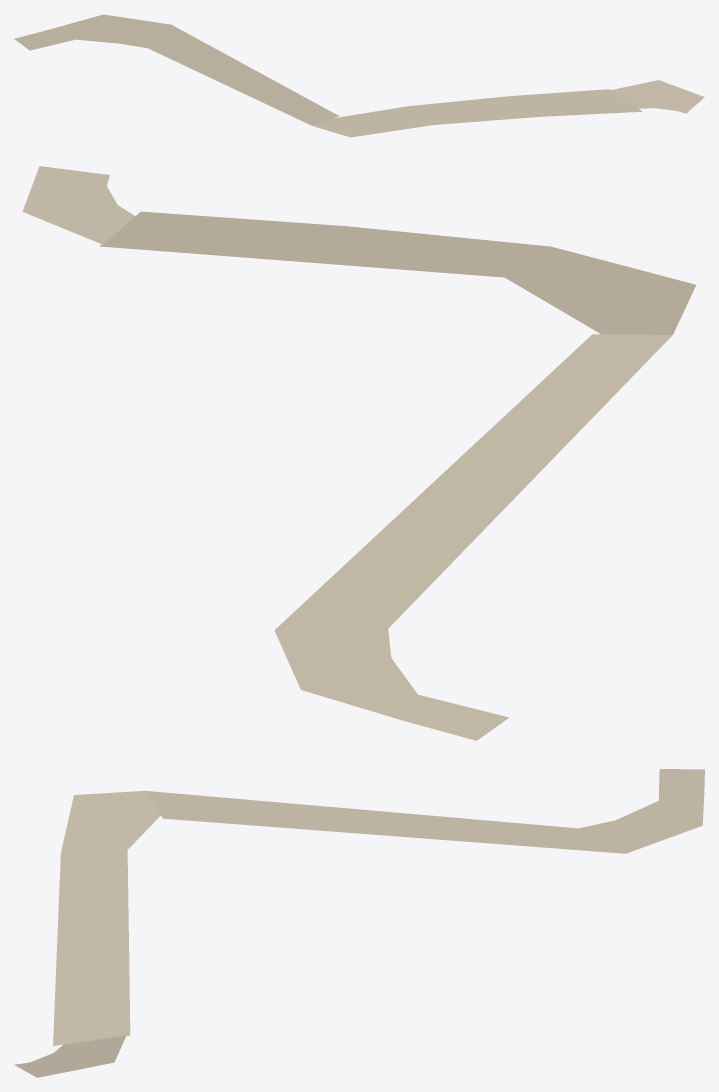
Rendered from RBP2.glb.
3 renders of one model, top to bottom at view 1: azimuth 30°, elevation 25°; view 2: azimuth 150°, elevation 25°; view 3: azimuth 270°, elevation 25°, orthographic. The views are drawn at different scales.
Parts seen in each view (by area): view 1: Course.079, Course.077, Course.078; view 2: Course.079, Course.077, Course.078; view 3: Course.077, Course.079, Course.078.
Boxes of the visible parts, bbox=[...] form: Course.079: bbox=[14, 14, 339, 125]; Course.077: bbox=[312, 89, 642, 137]; Course.078: bbox=[610, 80, 704, 113]; Course.079: bbox=[274, 334, 672, 740]; Course.077: bbox=[99, 211, 695, 334]; Course.078: bbox=[22, 166, 134, 244]; Course.077: bbox=[53, 790, 160, 1045]; Course.079: bbox=[145, 769, 704, 853]; Course.078: bbox=[14, 1035, 126, 1077].
Size of the model in its own units: 32.7 by 2.64 by 30.42.
